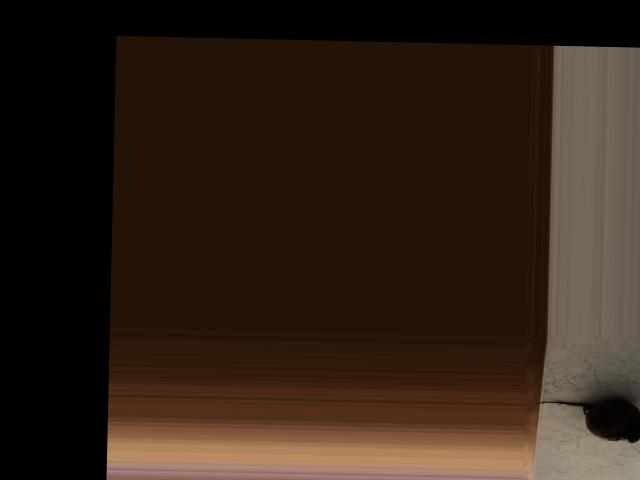beet: (533, 397, 640, 442)
